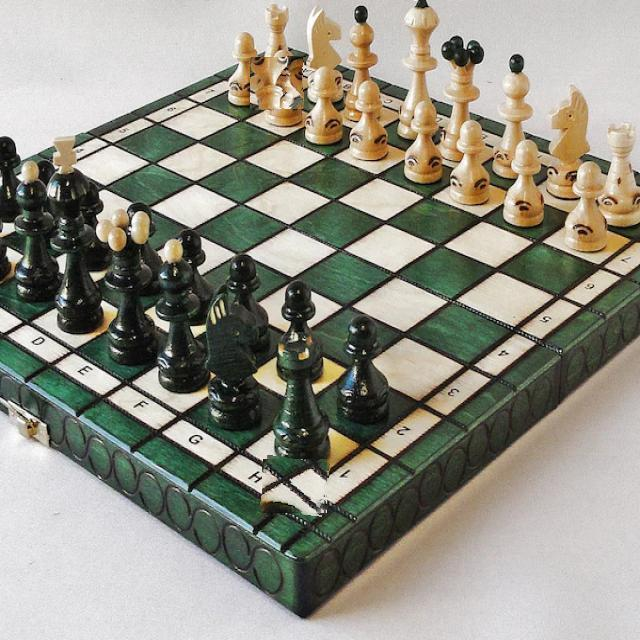chess-table-corners: (262, 457, 329, 515), (250, 57, 304, 109)
